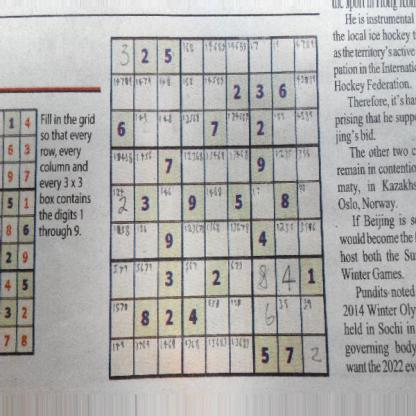sudoku: (106, 32, 332, 382)
